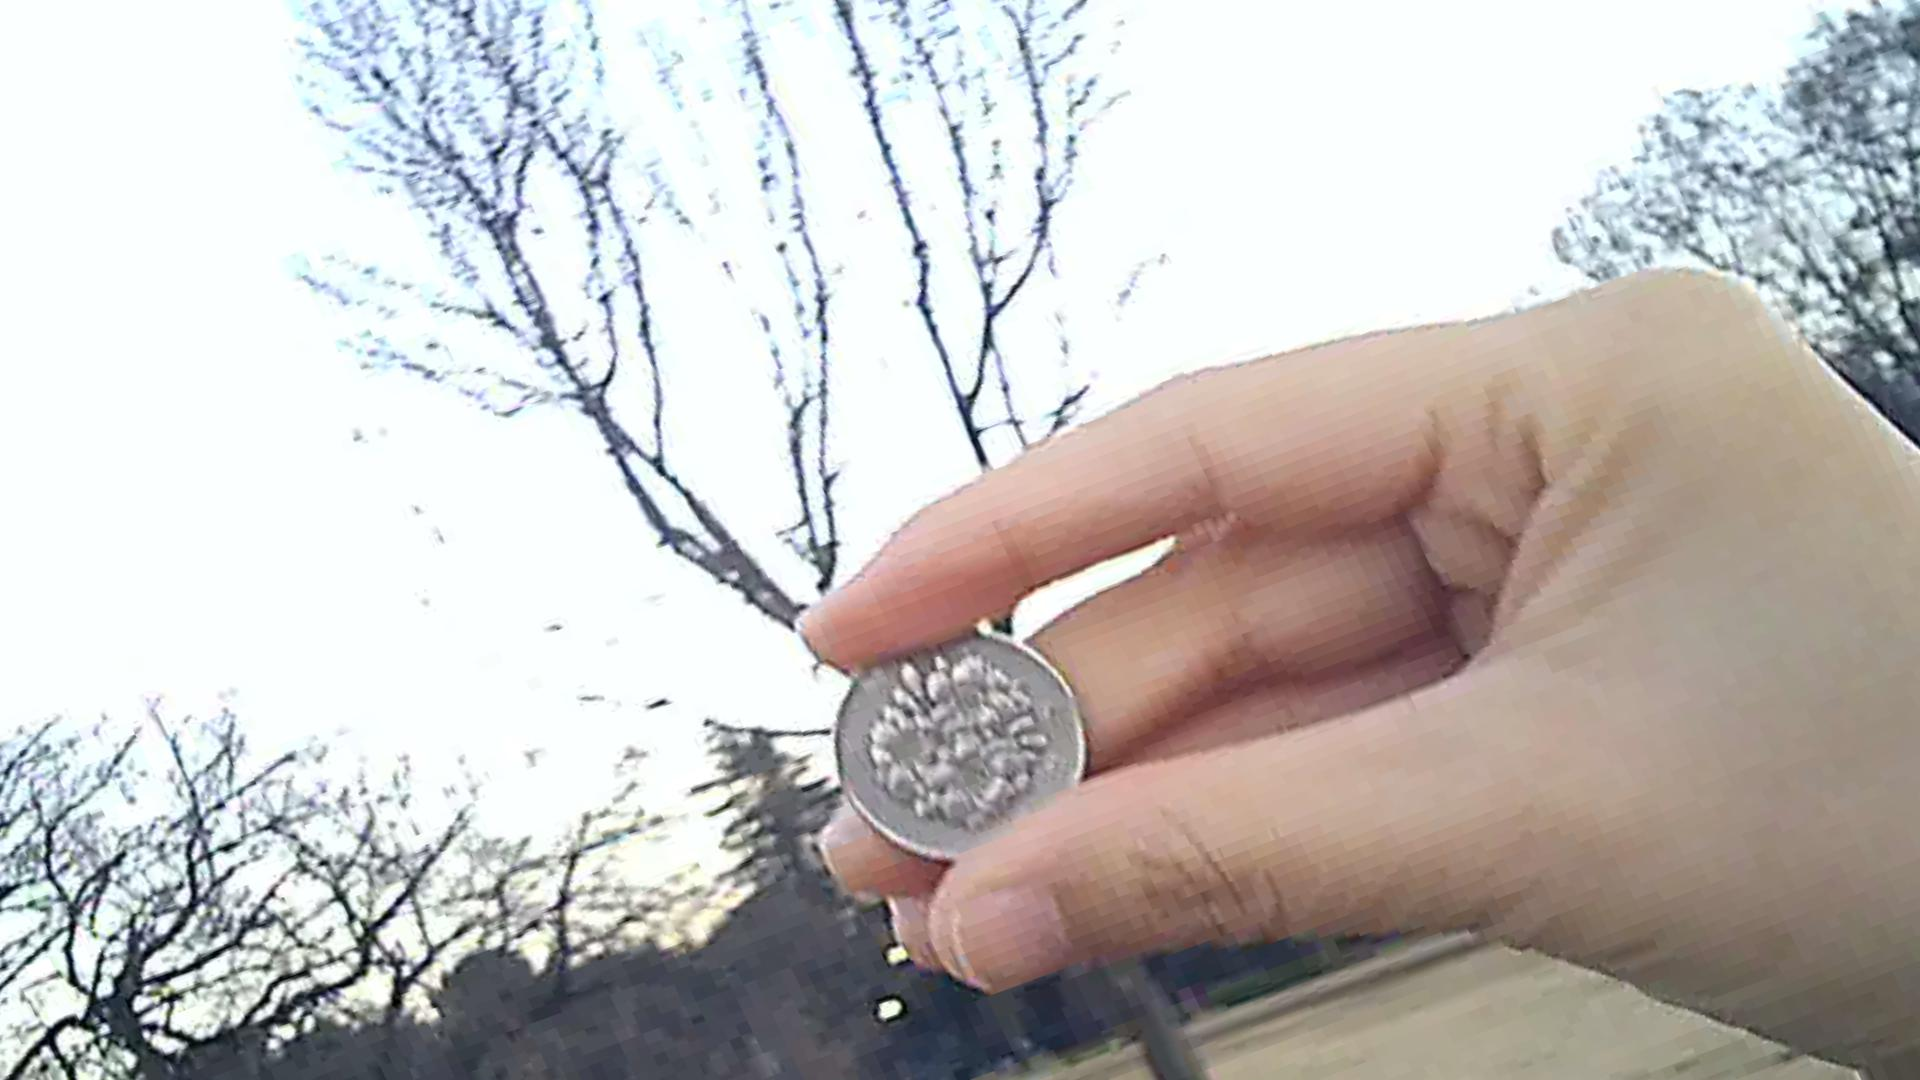100 Yen: (823, 625, 1112, 866)
